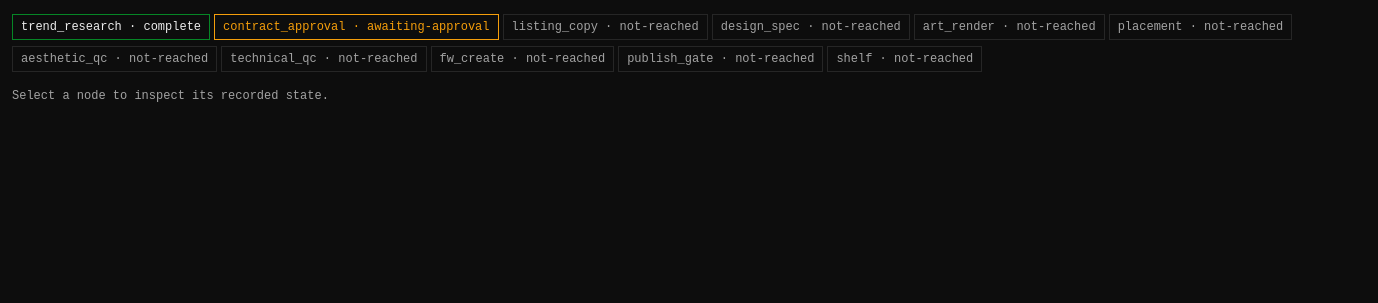
Scenario: RunDetailView › shows the resolved run config per node
Step 1. Click the button titled "contract_approval: awaiting-approval" → [356, 27], box [214,14,498,40]
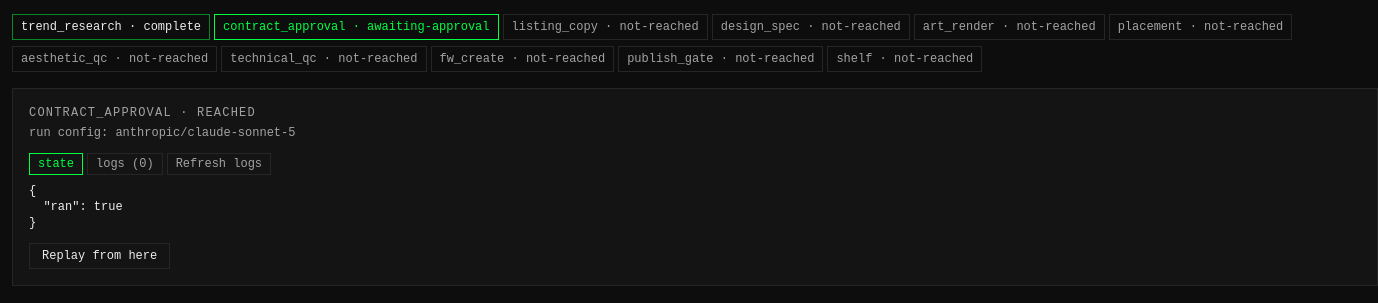
Now the text "run config: anthropic/claude-sonnet-5" is shown, box [29,126,296,140]
